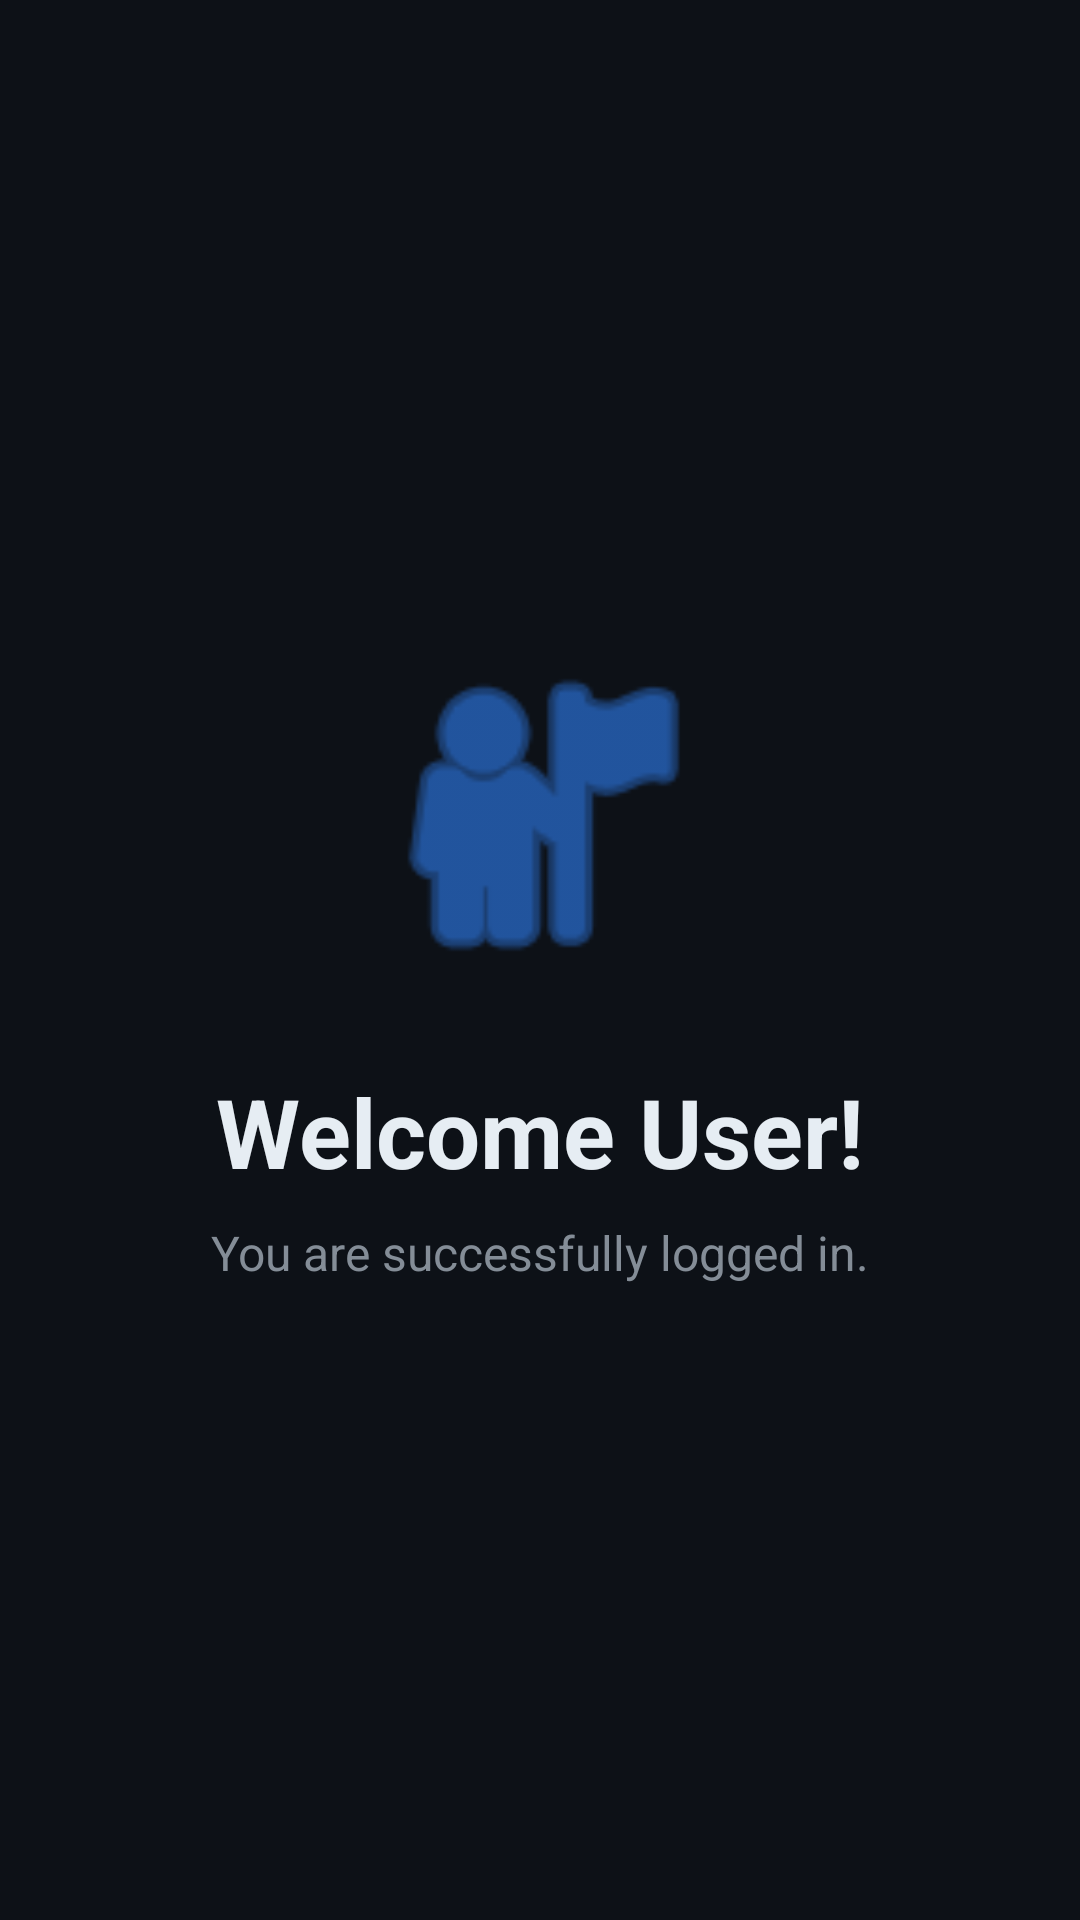

Locate icon controls on the screen. Image size 1080 x 1920, boxes as bbox=[x1, y1, x2, y2].
myplaces: bbox=[408, 680, 679, 950]
